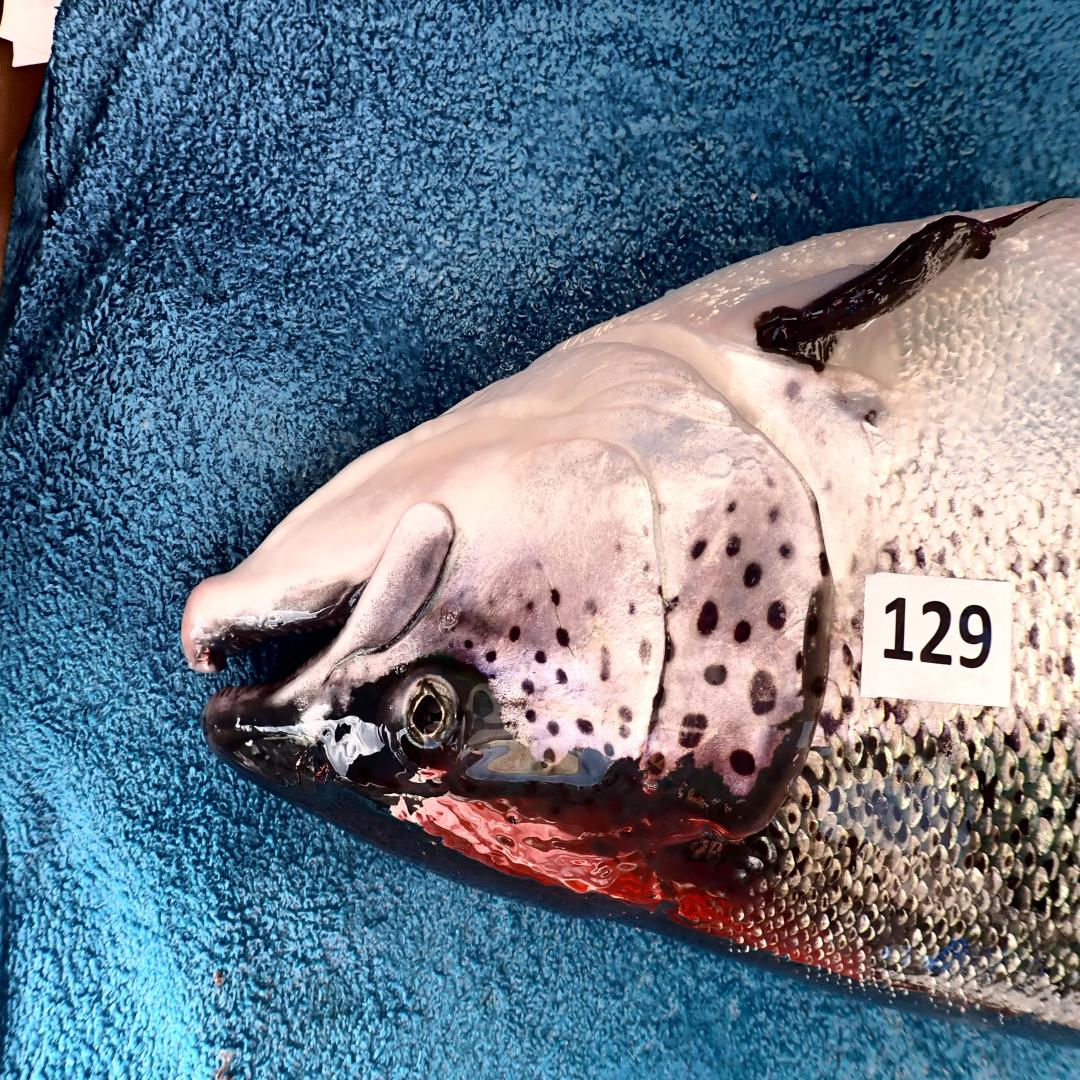spot: (751, 669, 776, 714), (679, 714, 707, 748), (696, 602, 719, 636), (730, 748, 755, 776), (768, 602, 787, 630), (705, 664, 728, 686), (599, 647, 612, 681), (734, 619, 751, 644), (745, 562, 761, 588), (648, 751, 664, 776), (690, 537, 707, 560), (664, 630, 675, 664), (639, 638, 652, 664), (726, 534, 740, 557), (778, 540, 793, 560), (618, 706, 633, 726), (576, 717, 593, 734), (806, 612, 818, 635), (811, 676, 826, 694), (557, 627, 570, 647), (618, 723, 633, 740), (819, 552, 829, 576), (521, 678, 534, 695), (508, 624, 521, 641), (584, 599, 597, 616), (768, 506, 780, 523), (666, 596, 678, 613), (544, 748, 555, 765), (546, 720, 559, 734), (795, 651, 804, 671), (551, 588, 561, 605), (603, 742, 614, 757), (525, 709, 536, 723), (485, 650, 496, 664), (536, 650, 546, 664), (557, 669, 567, 683), (726, 501, 736, 512), (525, 599, 534, 610), (464, 638, 472, 650), (642, 561, 648, 574), (616, 542, 621, 553), (629, 605, 635, 613), (643, 527, 648, 536)
